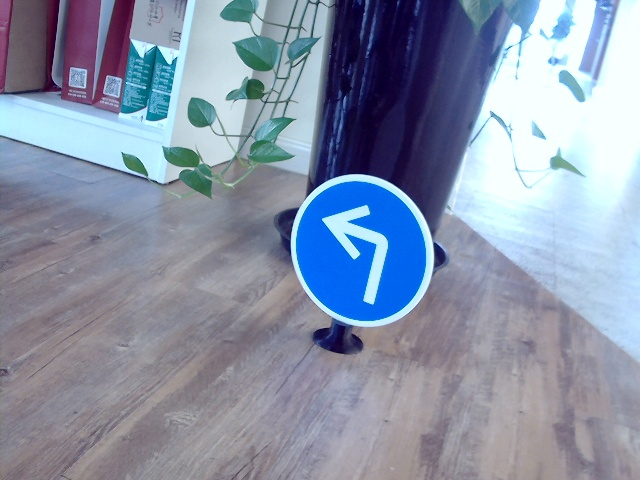turn_left: (322, 202, 394, 309)
